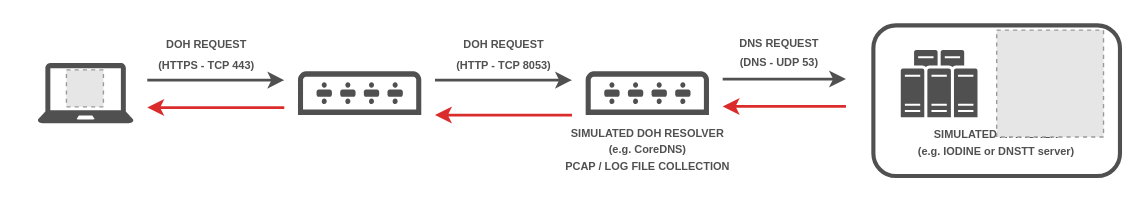
The diagram is 1145 pixels wide and 215 high, and some of its shapes have lost their labels. Grey dashed boxes stand in for pictures. The shapes that lost their labels are listed below. From the top down, each one's box as (x1, y1, x2, y2) in pixels, then its label:
(37, 62, 133, 123): SIMULATED INFECTION (e.g. DNSTT client )
(297, 71, 421, 114): SIMULATED TLS PROXY (e.g. NGINX) PCAP / LOG FILE COLLECTION
